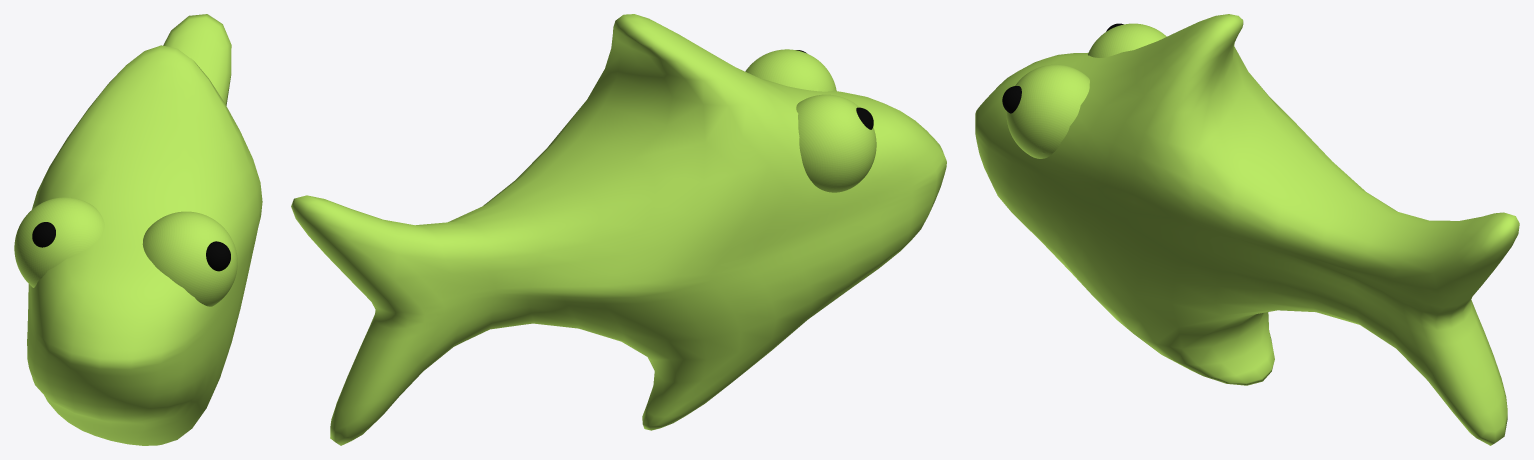
Rendered from goldfish.fbx.
3 renders of one model, left to right at view 1: azimuth 30°, elevation 25°; view 2: azimuth 150°, elevation 25°; view 3: azimuth 270°, elevation 25°, orthographic. The views are drawn at different scales.
Parts seen in each view (by area): view 1: Sphere.003; view 2: Sphere.003; view 3: Sphere.003.
Boxes of the visible parts, <box> form: Sphere.003: <box>14,14,262,445</box>; Sphere.003: <box>291,14,946,445</box>; Sphere.003: <box>975,14,1519,445</box>.
Size of the model in its own units: 145 by 132 by 173.
